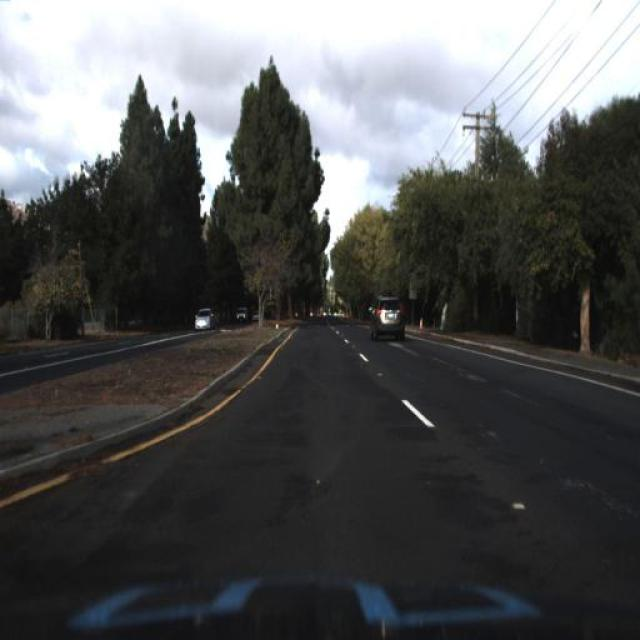car: (370, 296, 408, 340), (196, 302, 212, 328), (234, 304, 250, 328)
